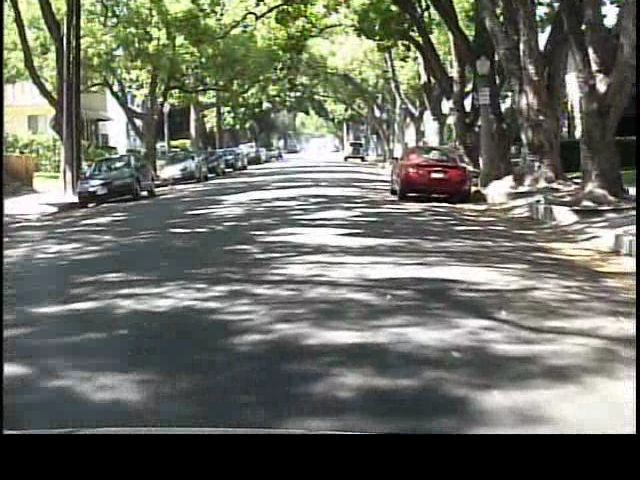person: (143, 144, 163, 184)
